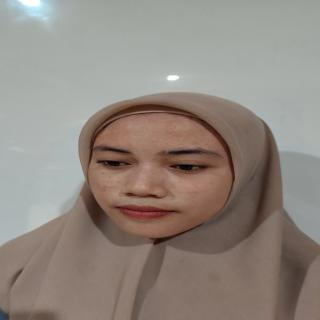Netral: (80, 100, 251, 243)
